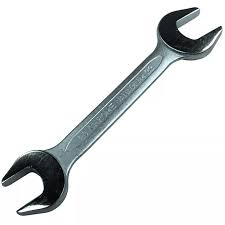Job: (2, 1, 224, 222)
